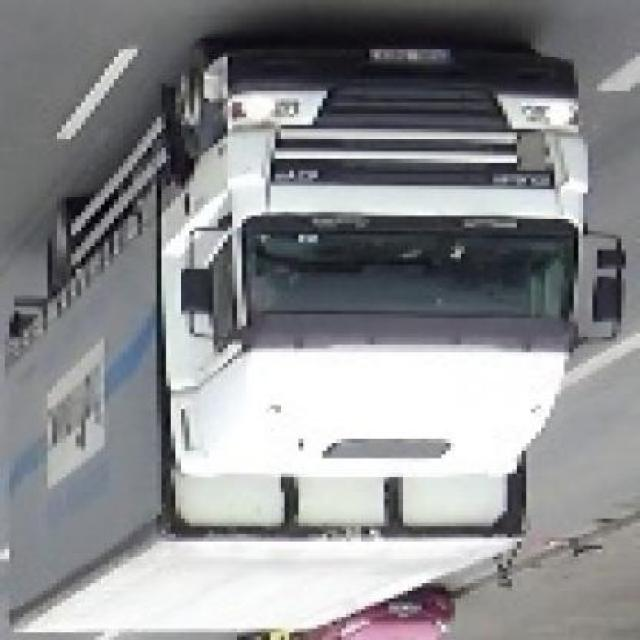truck: (1, 39, 621, 640)
